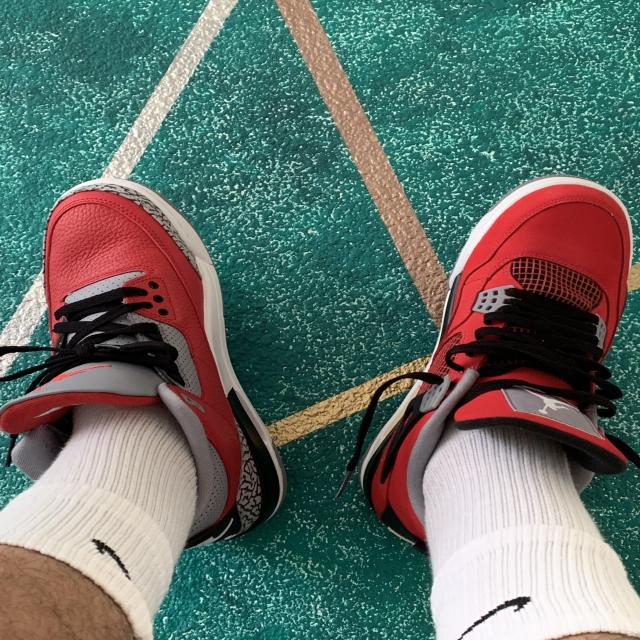shoes: (0, 178, 287, 554), (360, 170, 635, 548)
